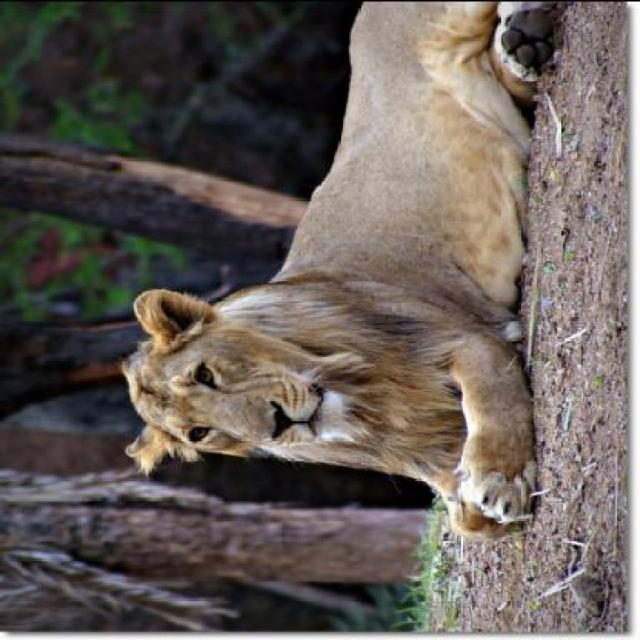Lion: (102, 4, 563, 556)
